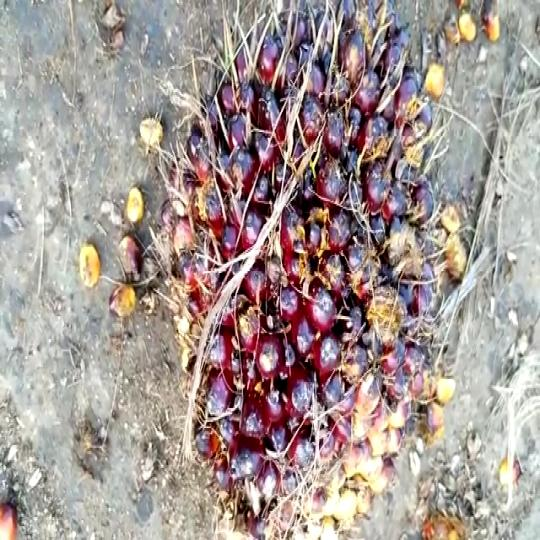kurang masak: (156, 0, 473, 529)
